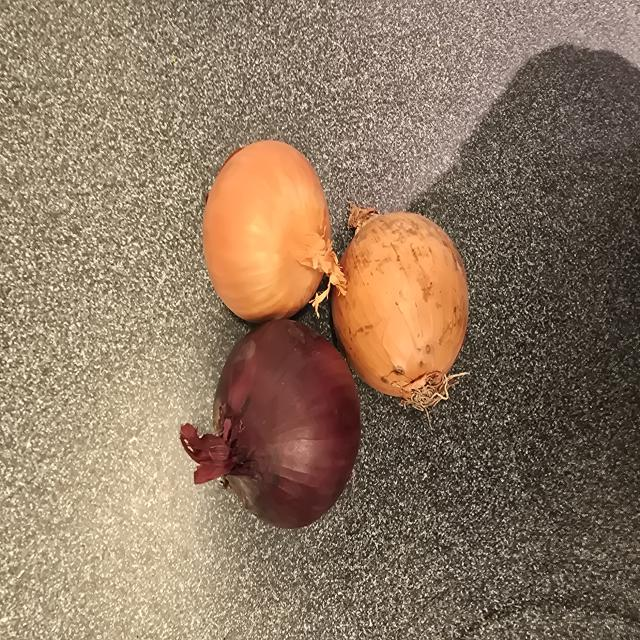Onion: (180, 320, 361, 528), (332, 204, 468, 410), (203, 140, 347, 323)
